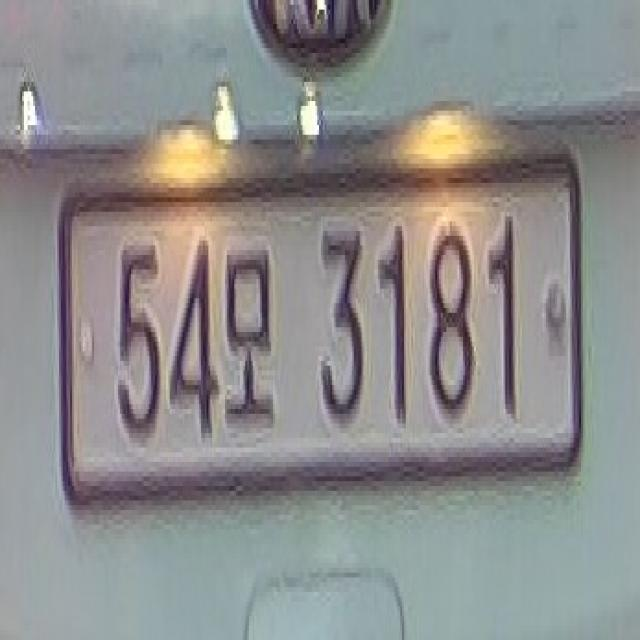1: (374, 178, 419, 443), (488, 197, 536, 419)
3: (313, 207, 380, 443)
4: (166, 207, 223, 443)
5: (114, 231, 166, 467)
8: (413, 207, 483, 457)
license_plate: (55, 154, 590, 539)
mo: (220, 226, 282, 433)
